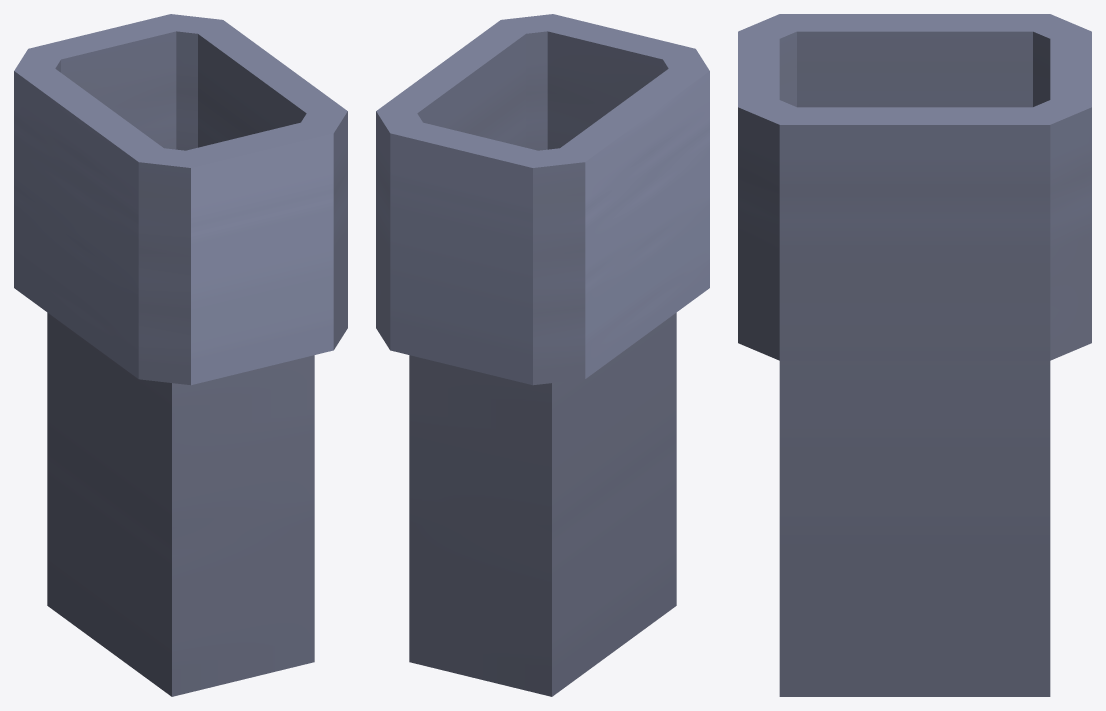
File: chimneyTop.fbx
3 views of the same model, side by side, from view 1: azimuth 30°, elevation 25°; view 2: azimuth 150°, elevation 25°; view 3: azimuth 270°, elevation 25° (orthographic). The views are drawn at different scales.
Visible parts, largest first — view 1: chimneyTop; view 2: chimneyTop; view 3: chimneyTop.
Part boxes in pixels (x1,y1,x2,y2): chimneyTop: (14, 14, 347, 696); chimneyTop: (376, 14, 709, 696); chimneyTop: (738, 14, 1091, 696).
Bounding box in the file's own units: 0.2519 × 0.34 × 0.625.
